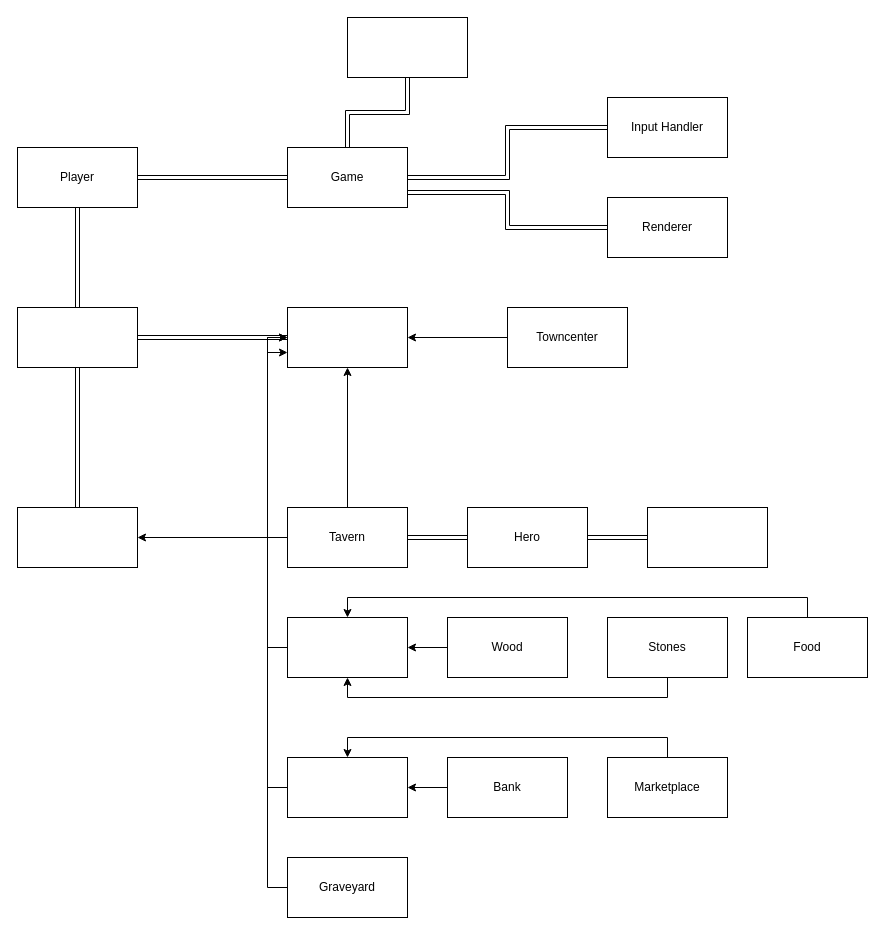
The diagram is 885 pixels wide and 935 high, and some of its shapes have lost their labels. Here are the shapes that lost their labels. From the top down, the box of each, then its label:
(346, 16, 468, 78): Settings
(16, 306, 138, 368): Town
(286, 306, 408, 368): Building
(16, 506, 138, 568): Quest
(646, 506, 768, 568): Ability
(286, 616, 408, 678): Ressource Gatherer
(286, 756, 408, 818): Money Generation
